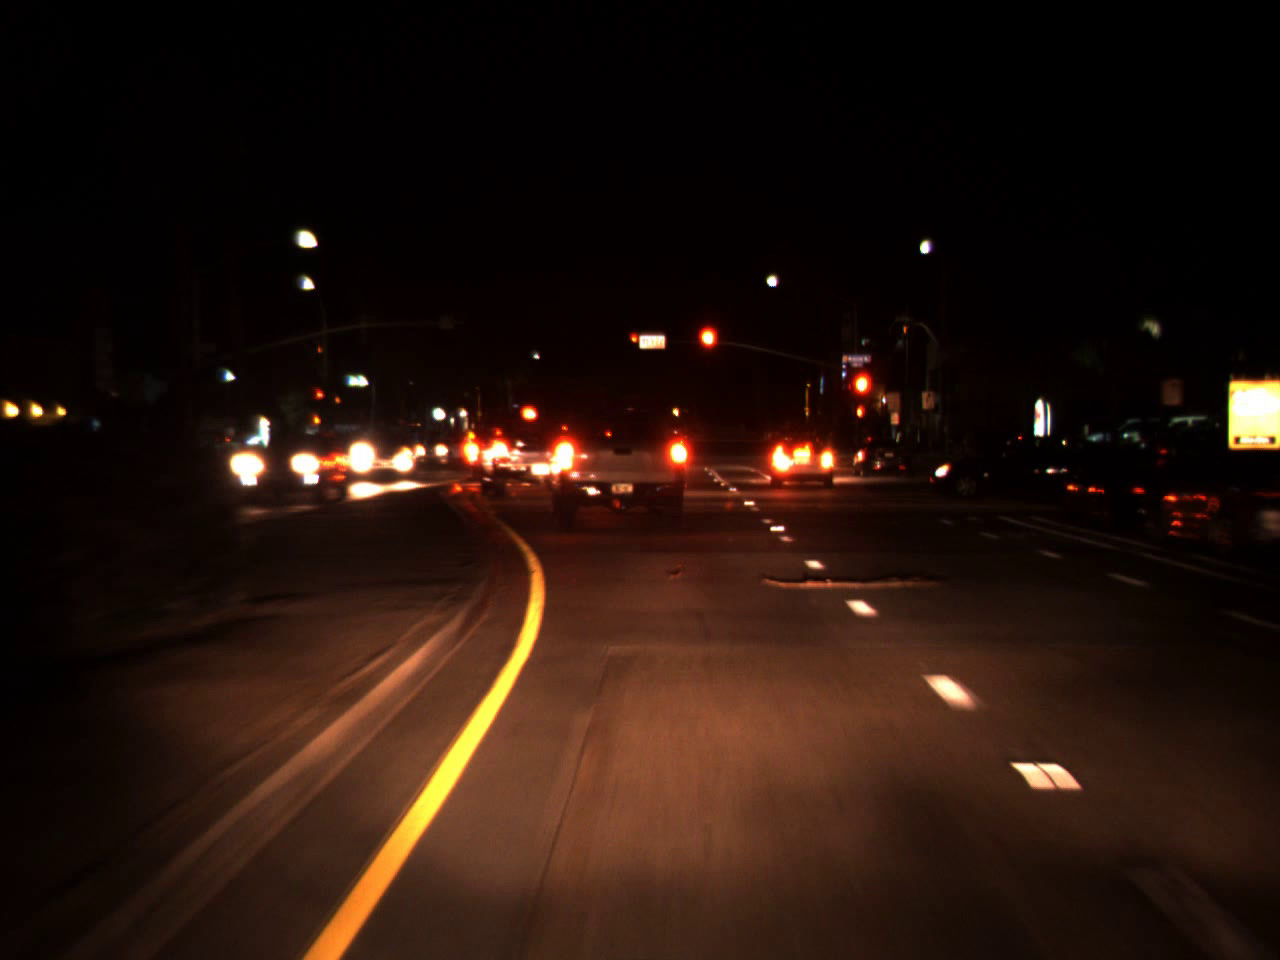stop: (848, 367, 876, 423), (695, 323, 720, 377), (629, 332, 639, 353), (314, 389, 324, 407)
